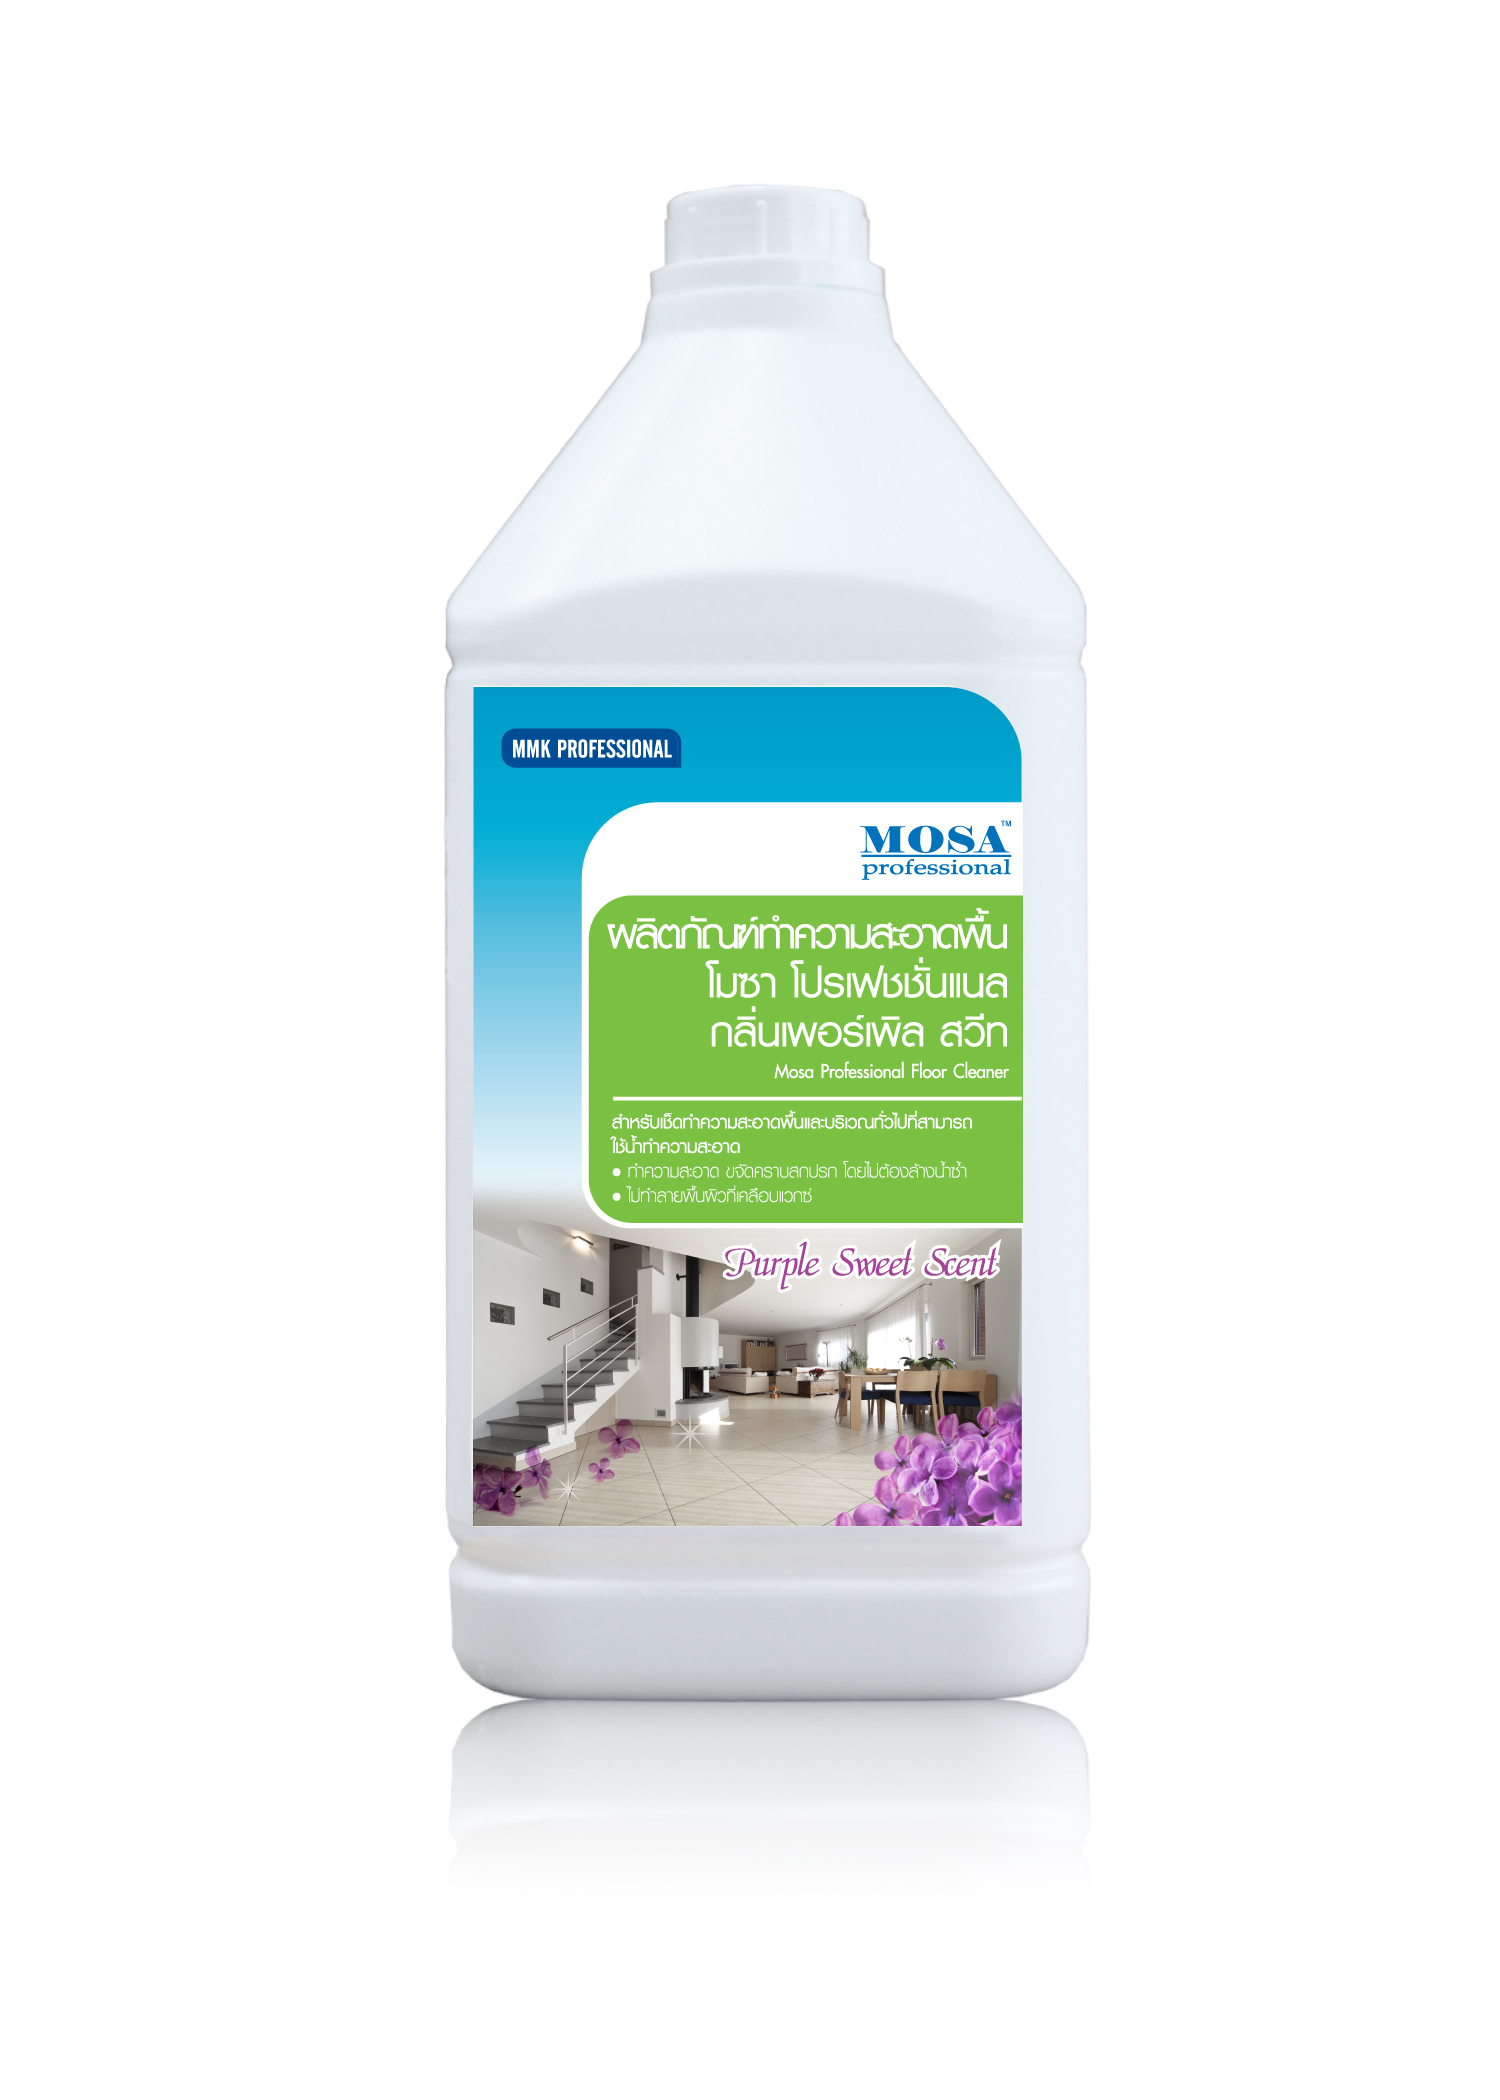Cleaning_solution: (416, 166, 1109, 1732)
